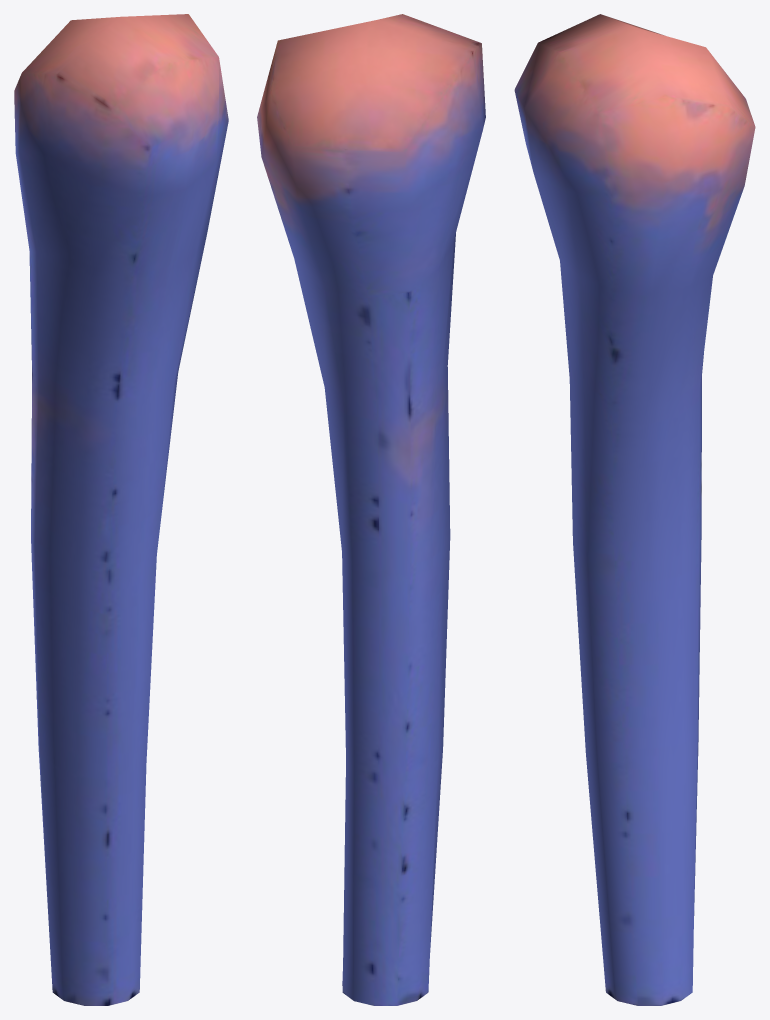
File: 37-Bubble.fbx
3 views of the same model, side by side, from view 1: azimuth 30°, elevation 25°; view 2: azimuth 150°, elevation 25°; view 3: azimuth 270°, elevation 25° (orthographic).
Visible parts, largest first — view 1: 37-Bubble_LOD00; view 2: 37-Bubble_LOD00; view 3: 37-Bubble_LOD00.
Part boxes in pixels (x1,y1,x2,y2): 37-Bubble_LOD00: [14, 14, 228, 1005]; 37-Bubble_LOD00: [257, 14, 485, 1005]; 37-Bubble_LOD00: [514, 14, 755, 1005].
Bounding box in the file's own units: 8.03 × 38.09 × 8.59.
